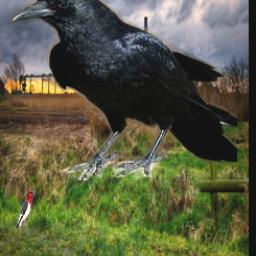Crow: (9, 0, 237, 180)
Woodpecker: (16, 190, 36, 232)
